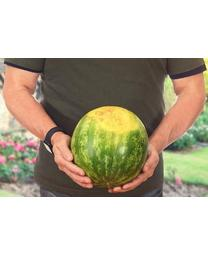watermelon: (70, 105, 147, 186)
